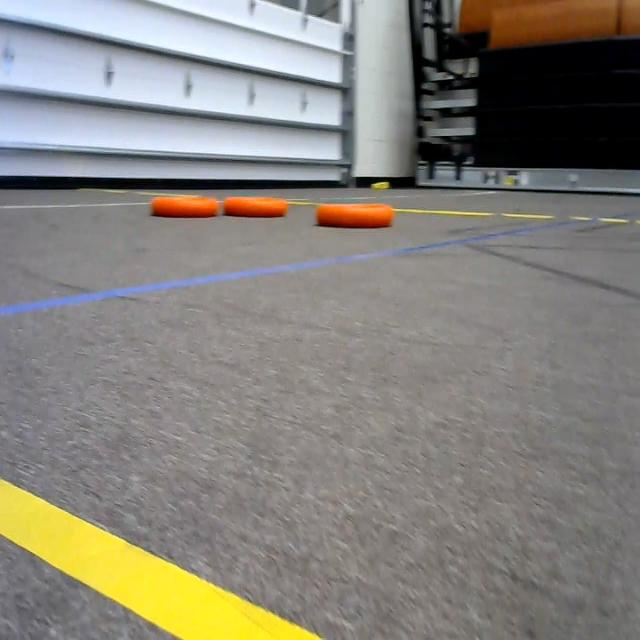note: (311, 188, 398, 238), (147, 182, 225, 229), (221, 182, 295, 222)
